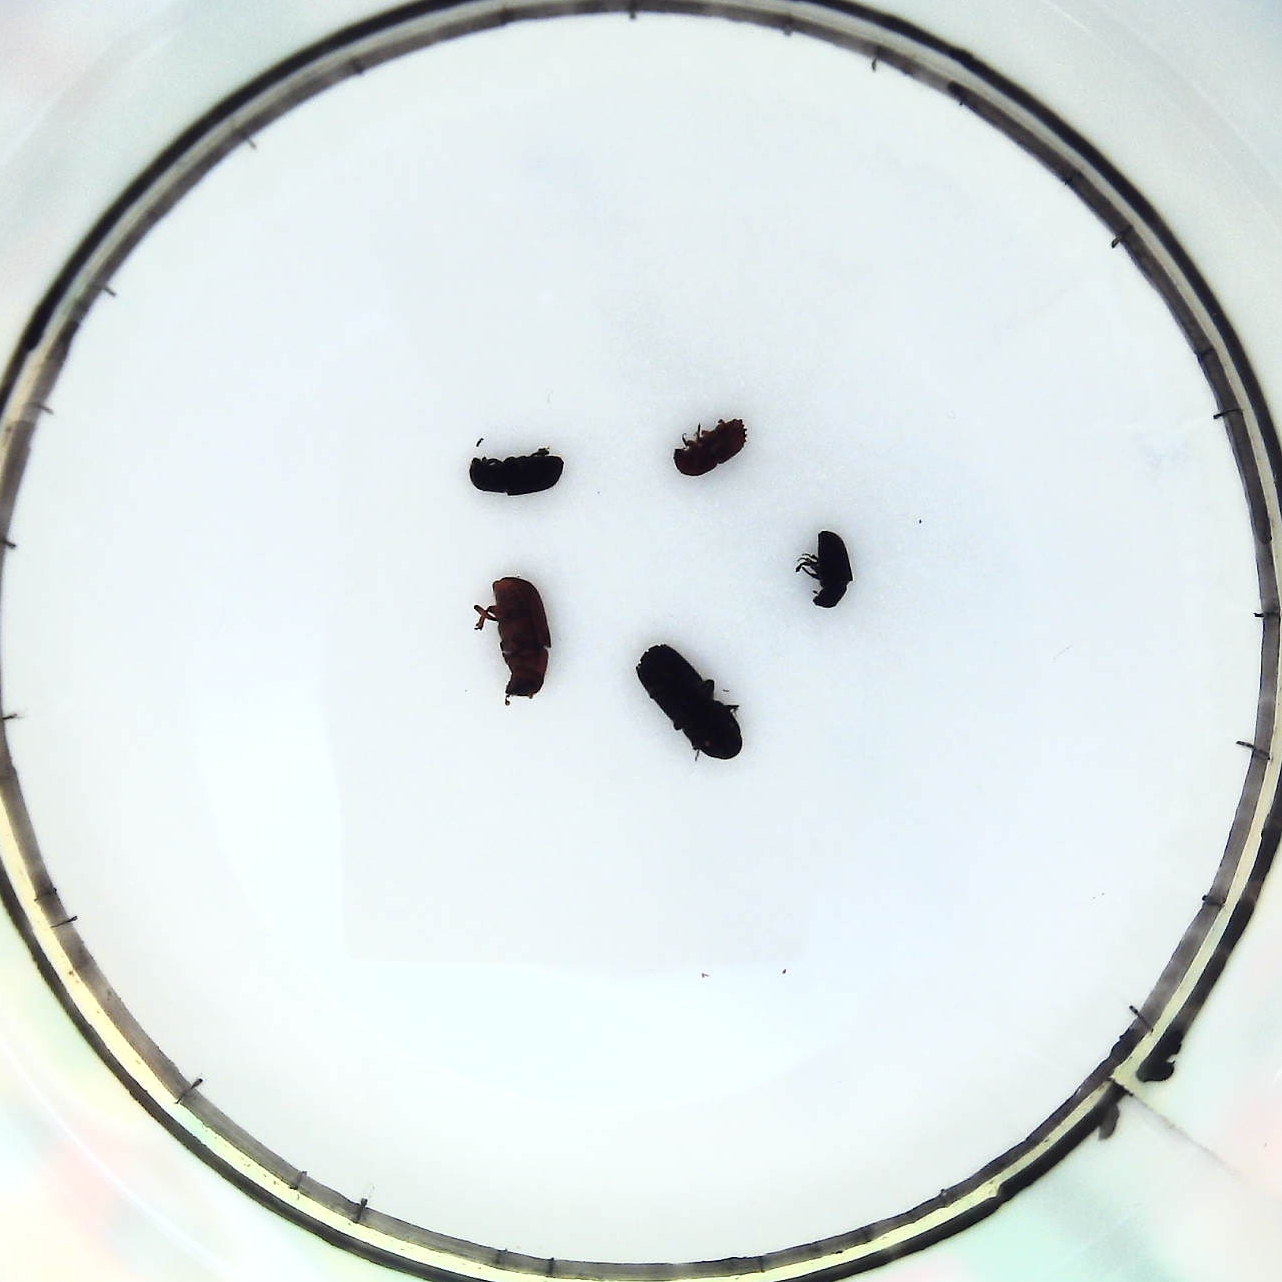Boerner: (629, 642, 754, 765)
Leconte: (468, 573, 556, 703)
armandi: (463, 447, 566, 505)
coleoptera: (795, 525, 861, 613)
linnaeus: (672, 413, 749, 478)
